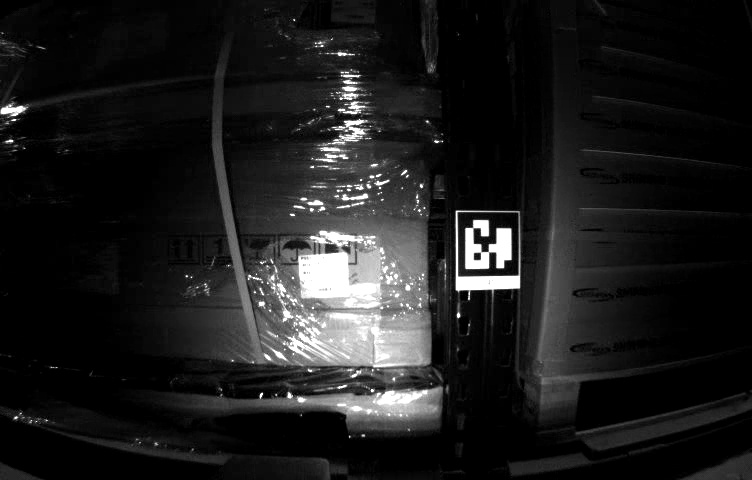True Barcode: (296, 252, 349, 296)
